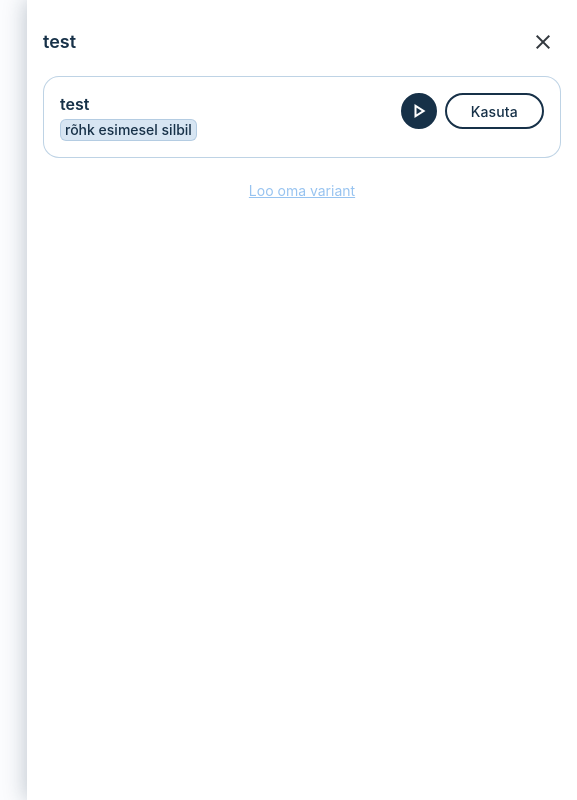
Test: PronunciationVariants › markers guide box › opens guide view when info button clicked
Click the button "Loo oma variant" at (302, 191), box [249,174,355,207]
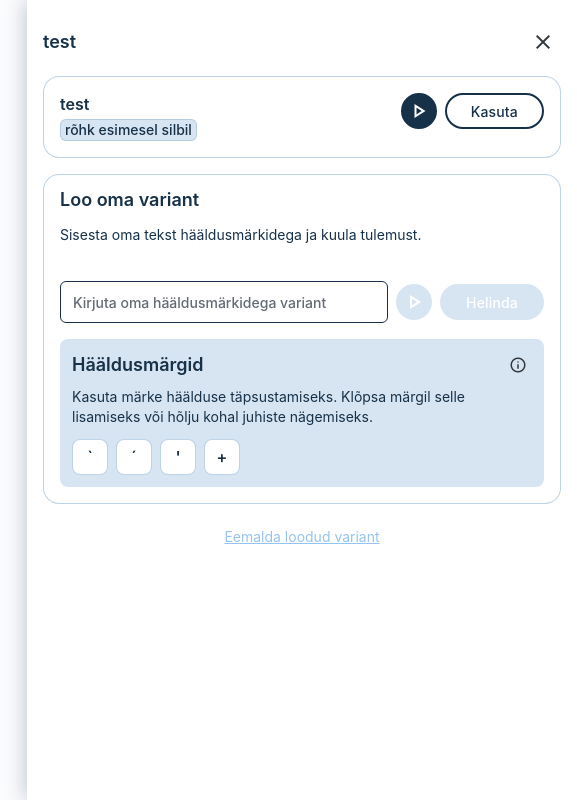
Click the button named "Ava hääldusmärkide juhend" at (518, 365), box [504,351,532,379]
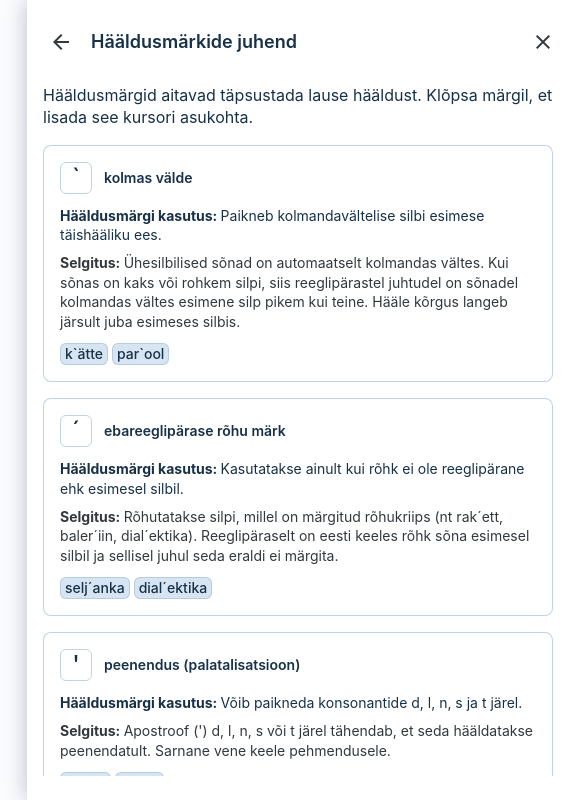
Check: the heading "Hääldusmärkide juhend" is shown, box [91,31,297,52]
